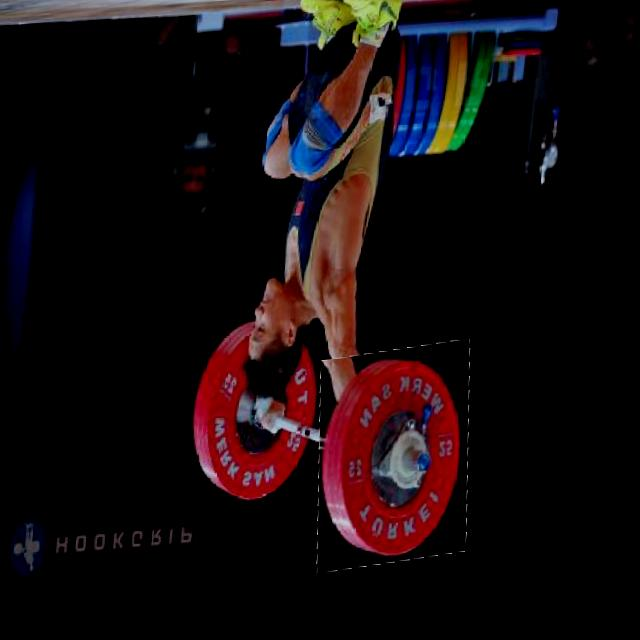barbell: (319, 350, 489, 579)
